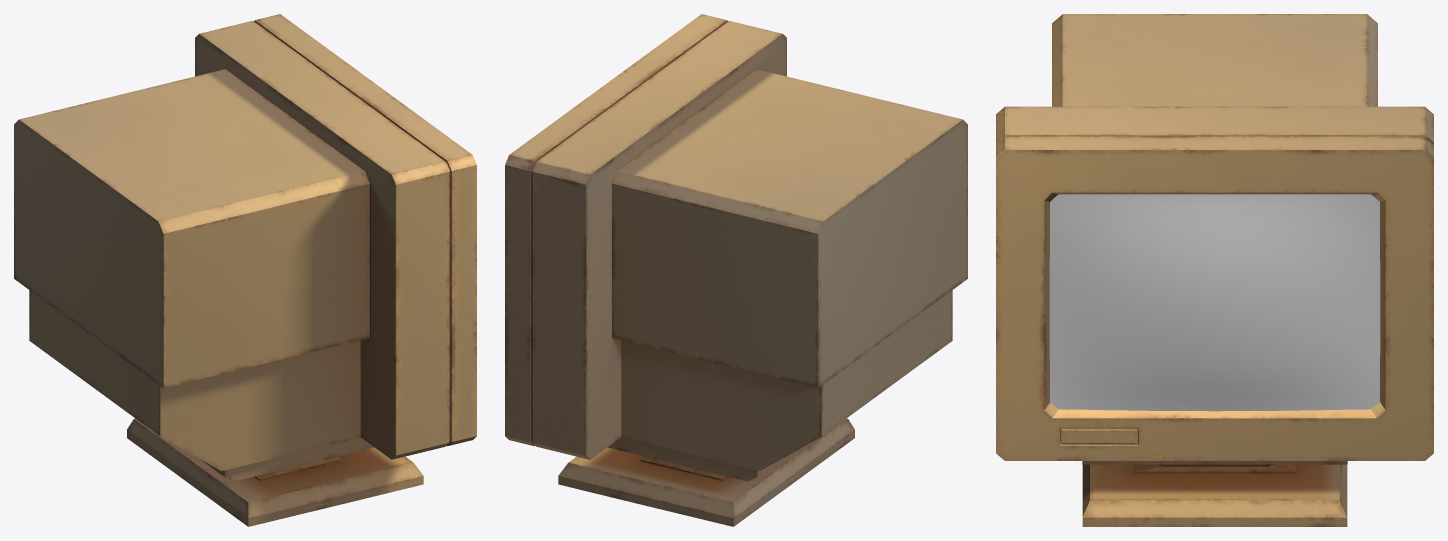
Rendered from MonitorModelFinal.fbx.
3 views of the same model, side by side, from view 1: azimuth 30°, elevation 25°; view 2: azimuth 150°, elevation 25°; view 3: azimuth 270°, elevation 25° (orthographic). The views are drawn at different scales.
Parts seen in each view (by area): view 1: Box, FrontPanel; view 2: Box, FrontPanel; view 3: Plane, FrontPanel, Box.
Part boxes in pixels (box(x1,y1,x2,y2)): Box: box(14, 21, 450, 526); FrontPanel: box(254, 14, 476, 446); Box: box(531, 21, 967, 526); FrontPanel: box(505, 14, 727, 446); Plane: box(1049, 194, 1380, 411); FrontPanel: box(996, 136, 1433, 460); Box: box(996, 14, 1433, 526).
Size of the model in its own units: 259 by 299 by 309.
Materials: 2 (2 with a texture image).
